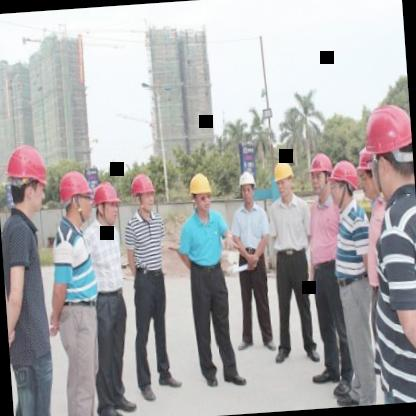helmet: (362, 102, 416, 196), (2, 144, 52, 219), (59, 168, 95, 228), (355, 144, 383, 206), (330, 162, 358, 212), (188, 170, 216, 218), (128, 172, 159, 214), (94, 180, 122, 226), (307, 149, 333, 196), (269, 158, 297, 199), (236, 162, 260, 206)
